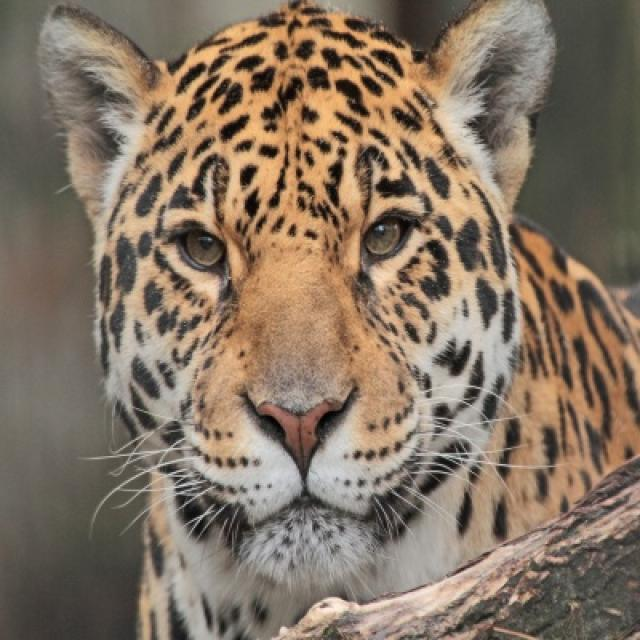Jaguar: (35, 0, 638, 638)
